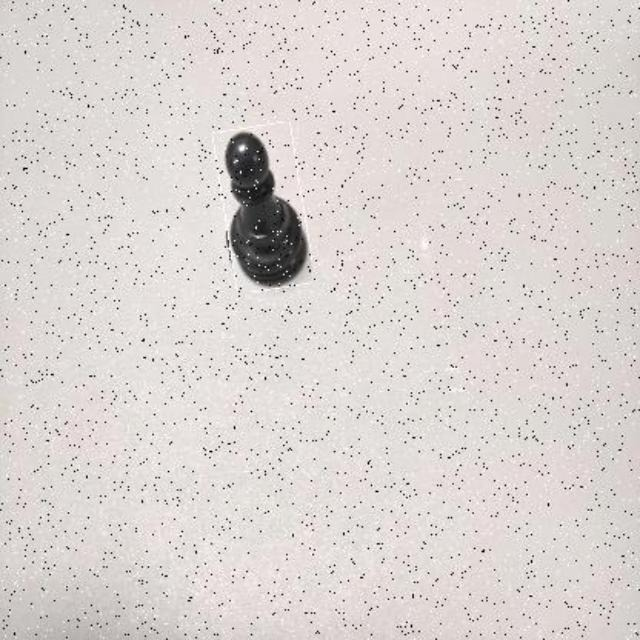black-pawn: (219, 123, 309, 292)
